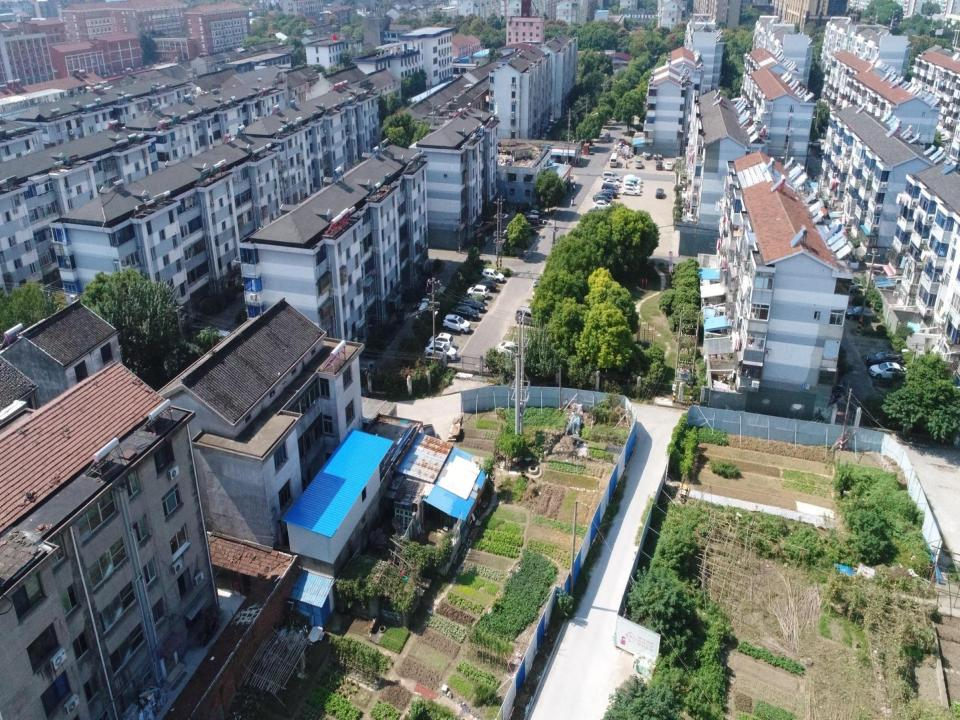car: (199, 327, 231, 349), (425, 341, 456, 363), (497, 340, 528, 361), (442, 312, 471, 334), (428, 332, 454, 349), (457, 299, 486, 314), (452, 305, 479, 321), (481, 267, 505, 283), (466, 284, 489, 300), (473, 278, 496, 292), (596, 186, 618, 200), (592, 199, 612, 214), (622, 180, 641, 193), (523, 208, 543, 219), (587, 208, 606, 219), (594, 194, 612, 205), (601, 182, 619, 193), (621, 186, 640, 196), (624, 174, 642, 184), (602, 178, 620, 187), (623, 178, 641, 185), (655, 188, 665, 199), (614, 143, 629, 150), (618, 140, 631, 148), (616, 137, 629, 144), (664, 161, 673, 171), (655, 159, 663, 170), (603, 132, 610, 143), (635, 159, 642, 168)
van: (515, 305, 542, 327), (602, 171, 622, 183), (592, 192, 613, 203), (523, 214, 540, 226), (610, 151, 618, 167)
